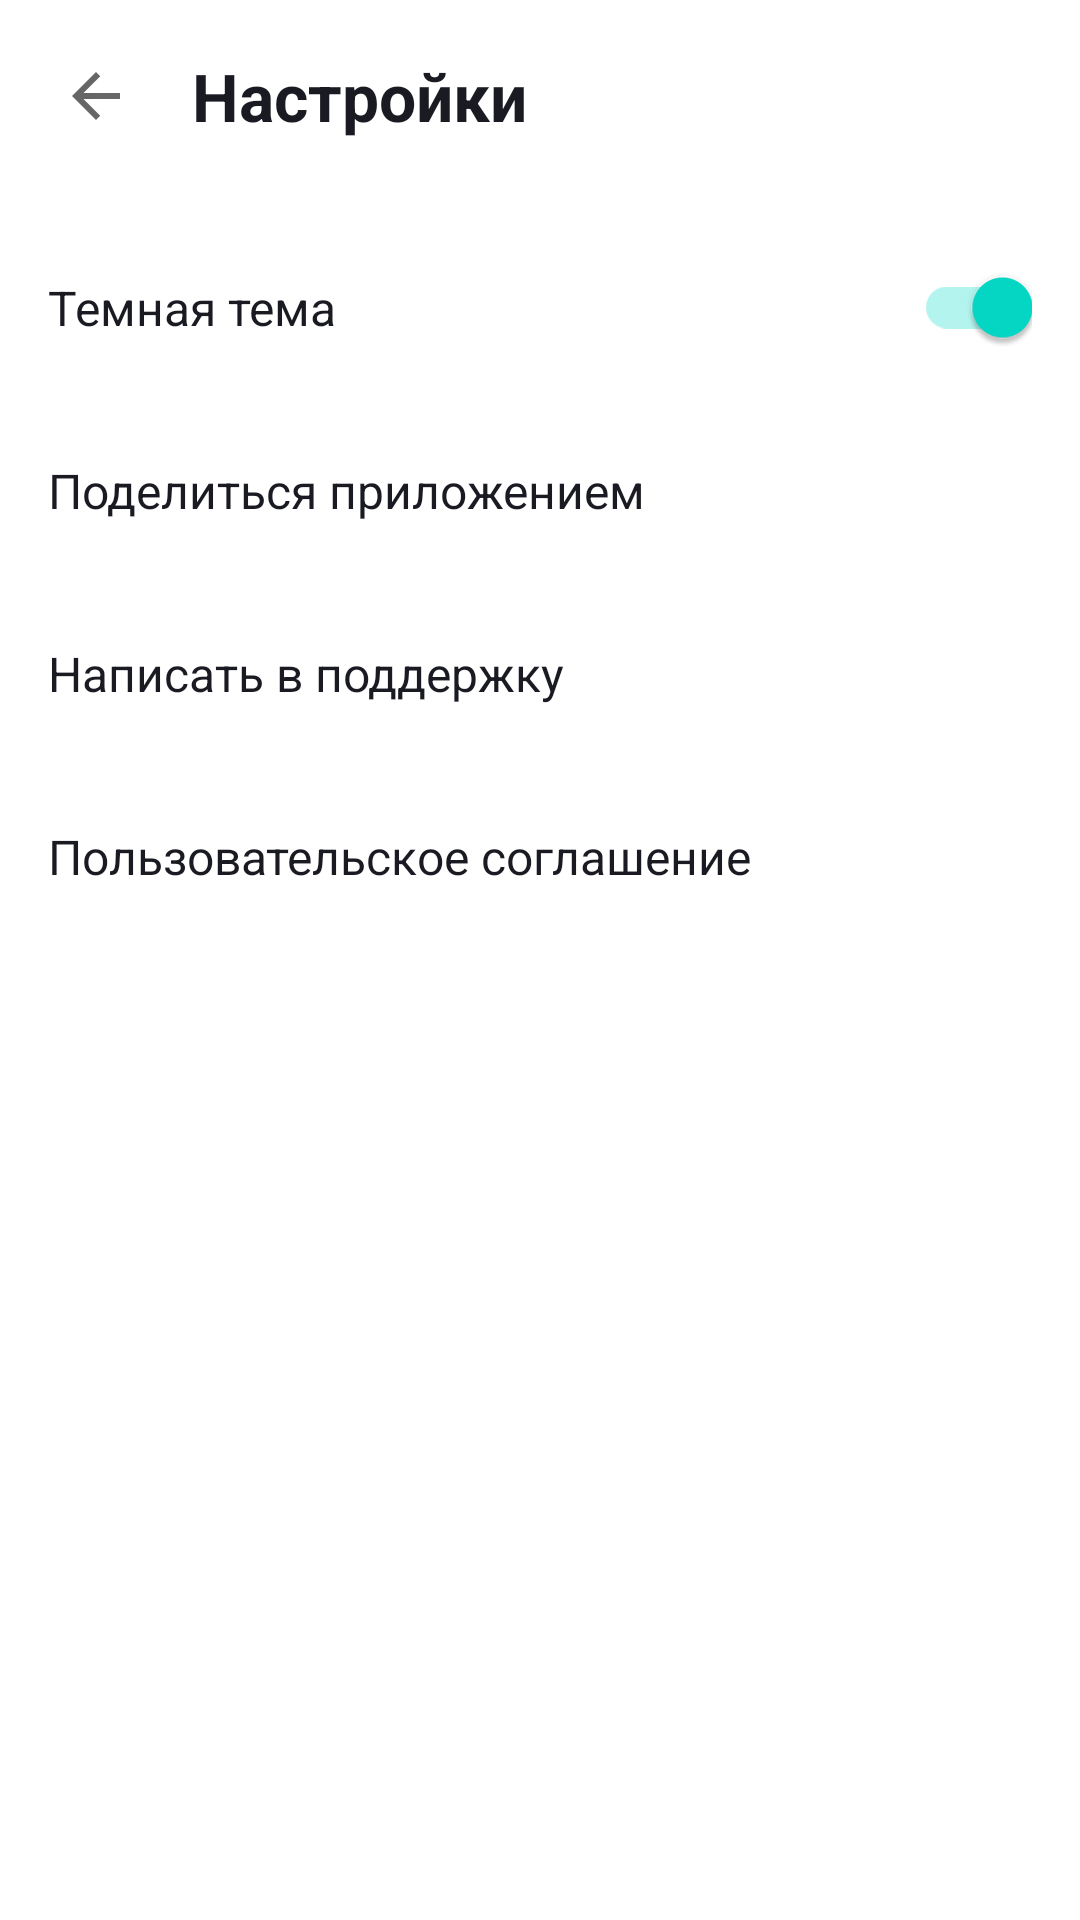

Icon click points for this 1080 x 1920 phone screenshot, format point (x, y):
arrow back: point (96, 96)
